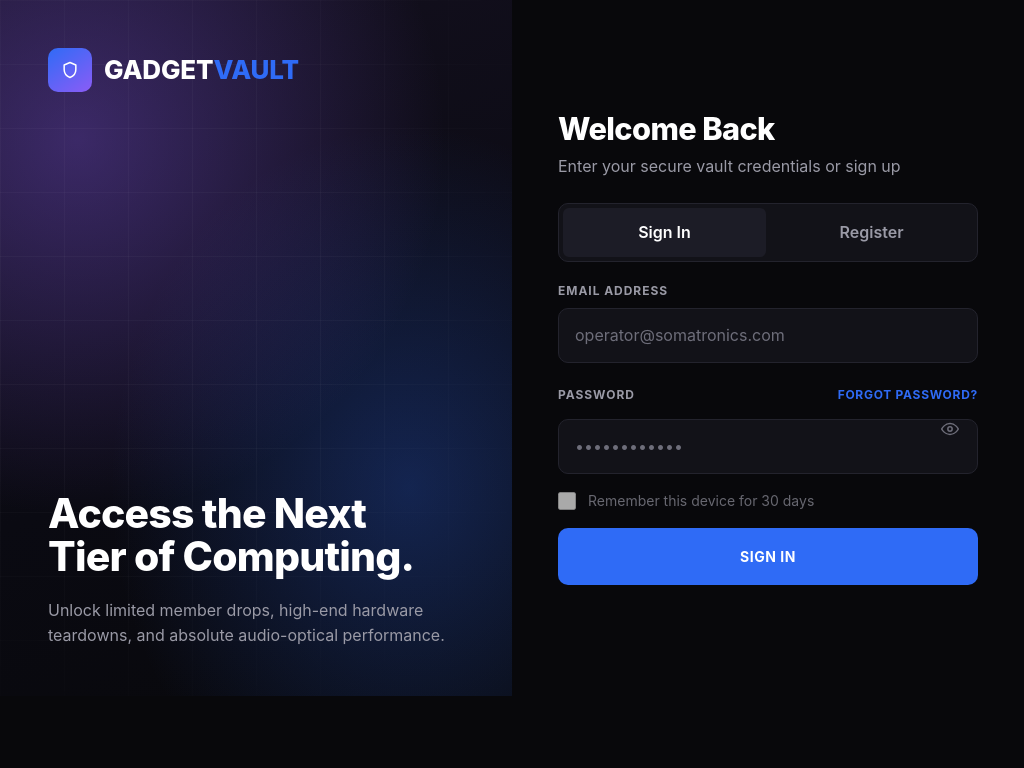
Test: registering › a validation failure lands on the field the API named
Click the tab "Register": (872, 232) [770, 208, 973, 257]
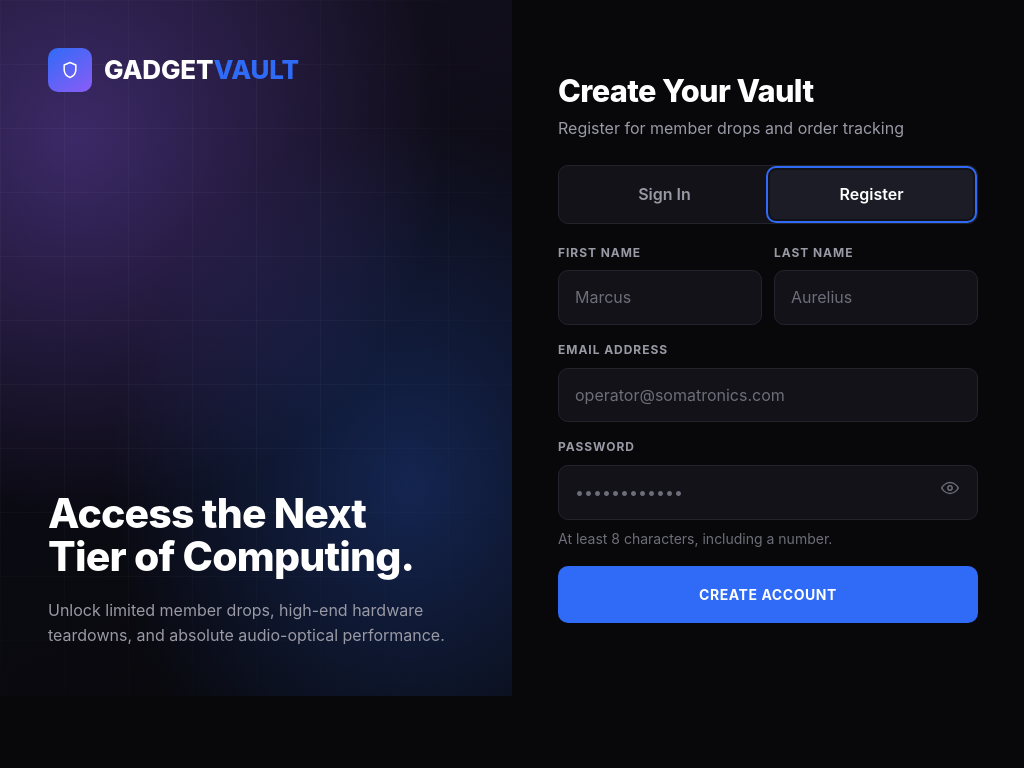
In the field labelled "First name": (660, 298) [558, 270, 762, 325], type "Hanre"
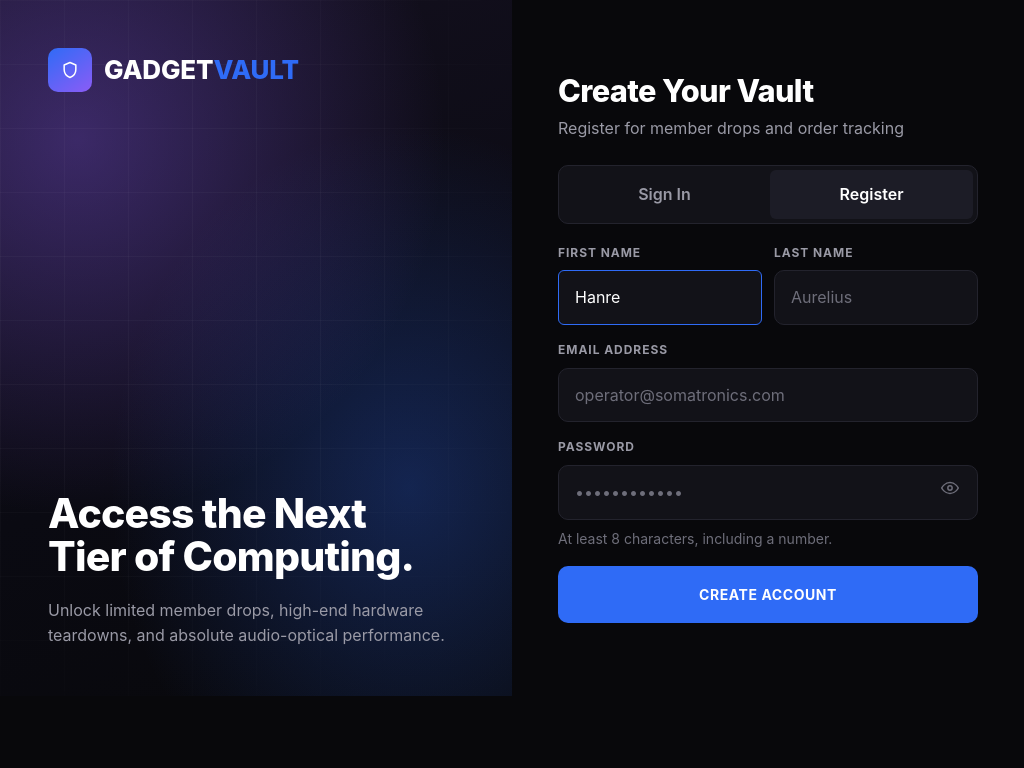
In the field labelled "Last name": (876, 298) [774, 270, 978, 325], type "Koen"
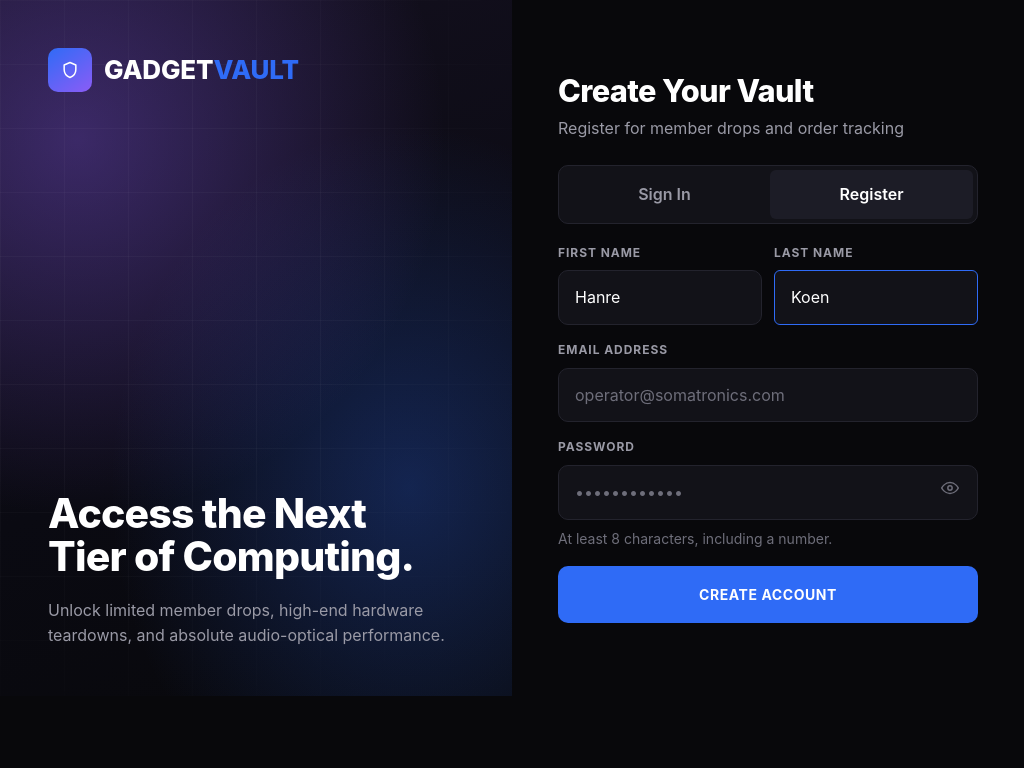
In the field labelled "Email address": (768, 395) [558, 368, 978, 422], type "taken@sen371.test"
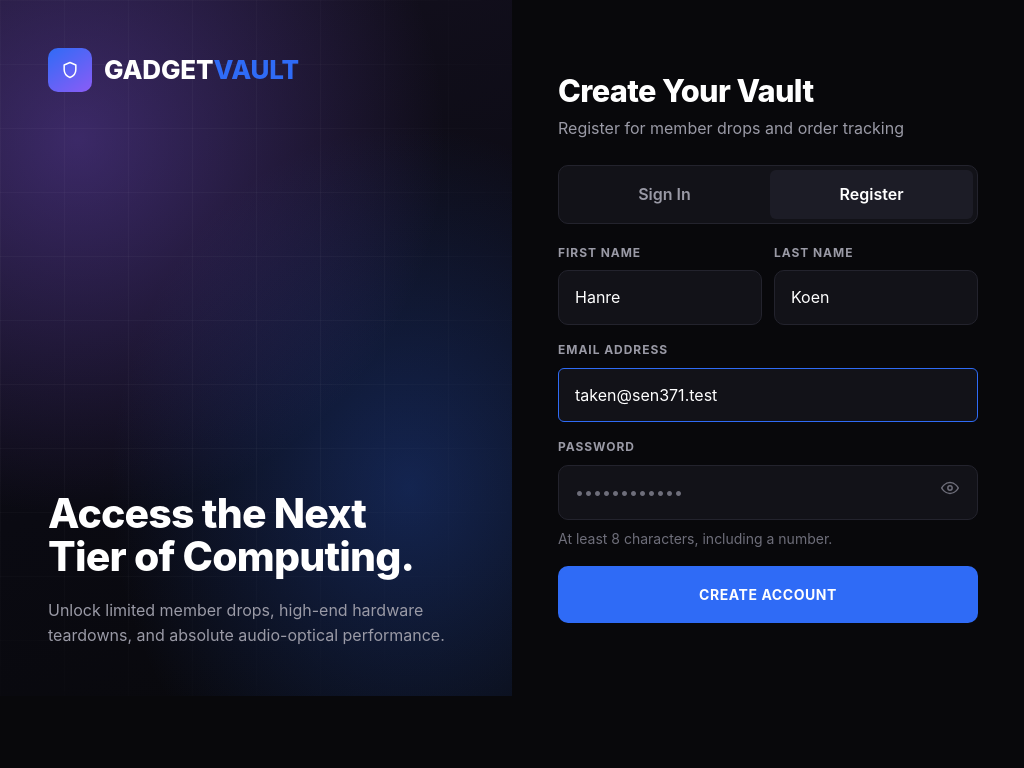
In the password field labelled "Password": (768, 492) [558, 465, 978, 520], type "Correct-Horse-9"
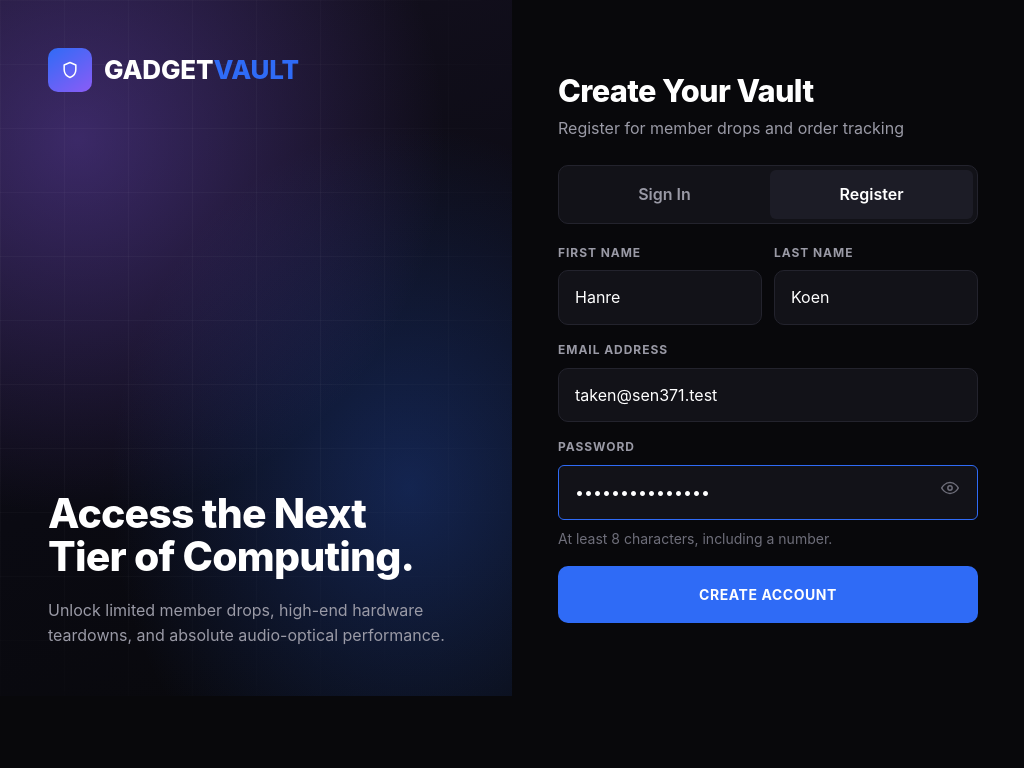
Click the button "Create Account": (768, 594) [558, 566, 978, 623]
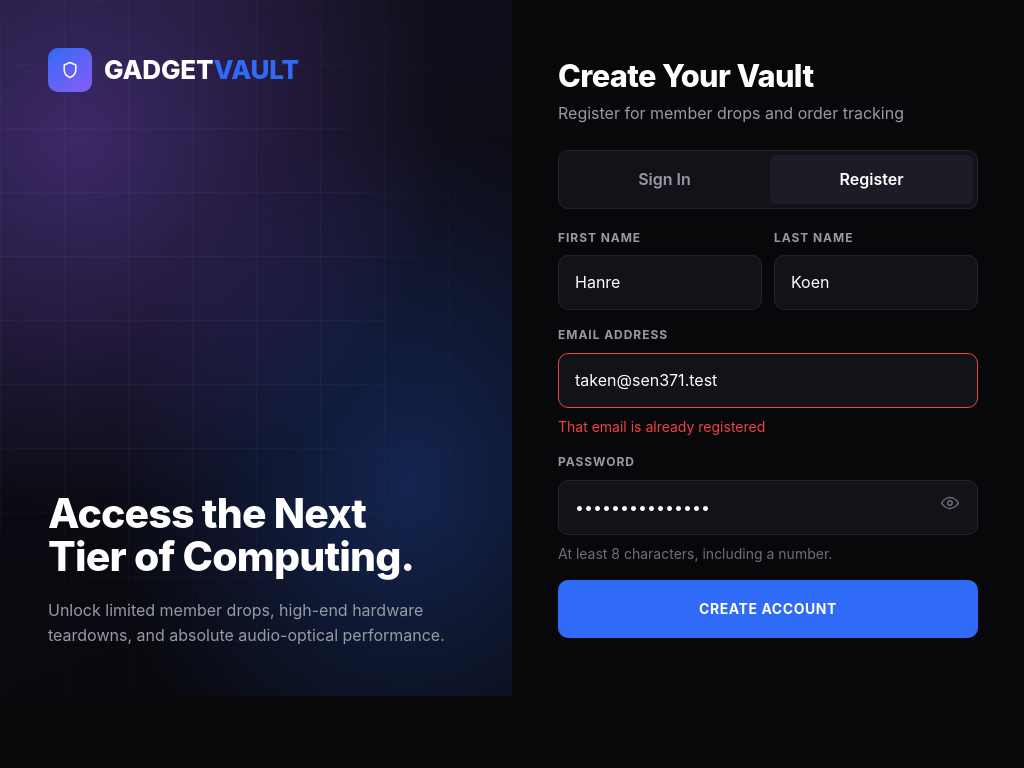
Check: the text "That email is already registered" is shown, box [558, 418, 765, 435]
